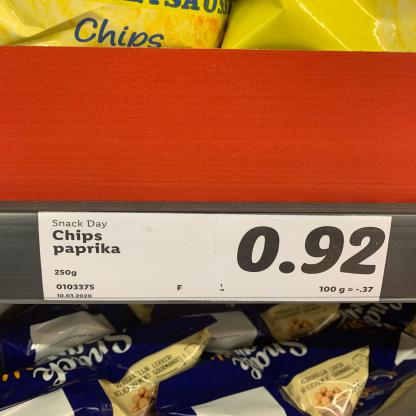prtg: (38, 212, 393, 302)
